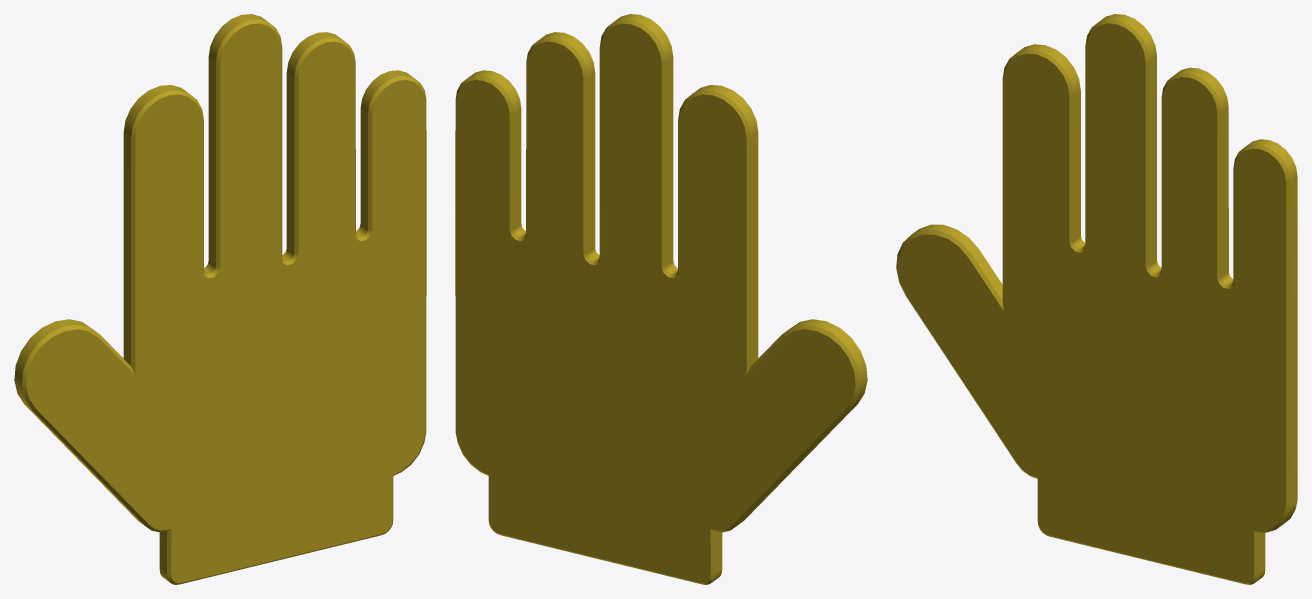
Rendered from hand_icon.fbx.
3 renders of one model, left to right at view 1: azimuth 30°, elevation 25°; view 2: azimuth 150°, elevation 25°; view 3: azimuth 330°, elevation 25°, orthographic. The views are drawn at different scales.
Parts seen in each view (by area): view 1: hand; view 2: hand; view 3: hand.
Part boxes in pixels (bbox=[...]): hand: bbox=[14, 14, 426, 584]; hand: bbox=[455, 14, 867, 584]; hand: bbox=[896, 14, 1297, 584].
Size of the model in its own units: 2 by 2.59 by 0.0908.
